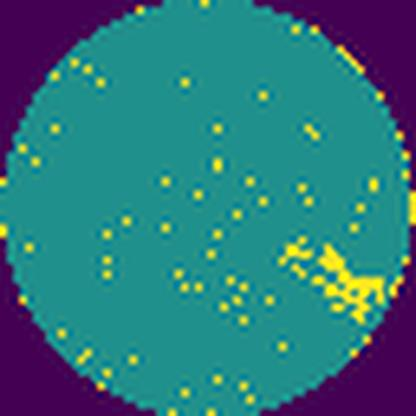Loc: (313, 243, 385, 323)
